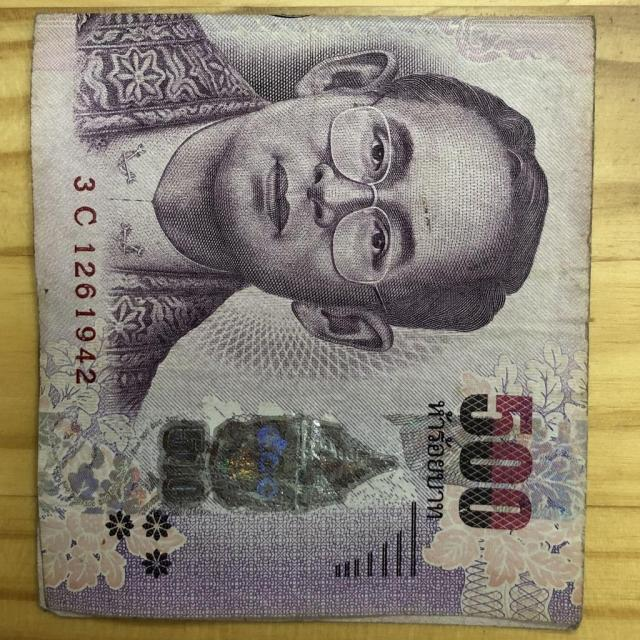THAI500: (38, 14, 591, 626)
